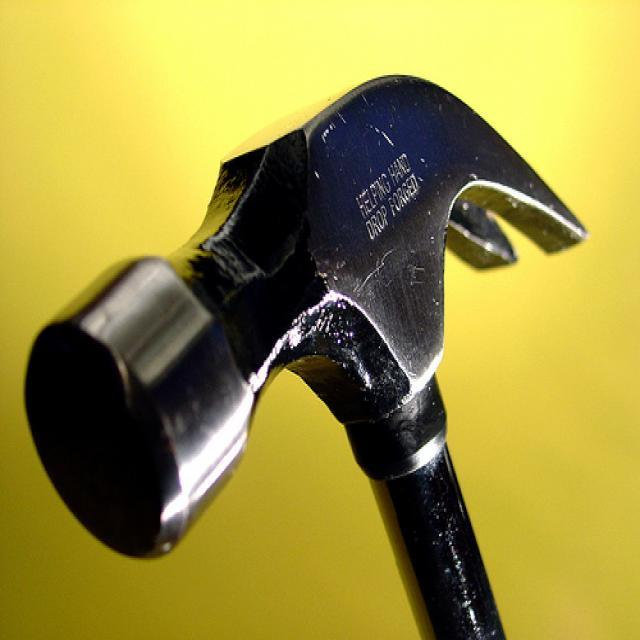hammer: (8, 65, 592, 640)
